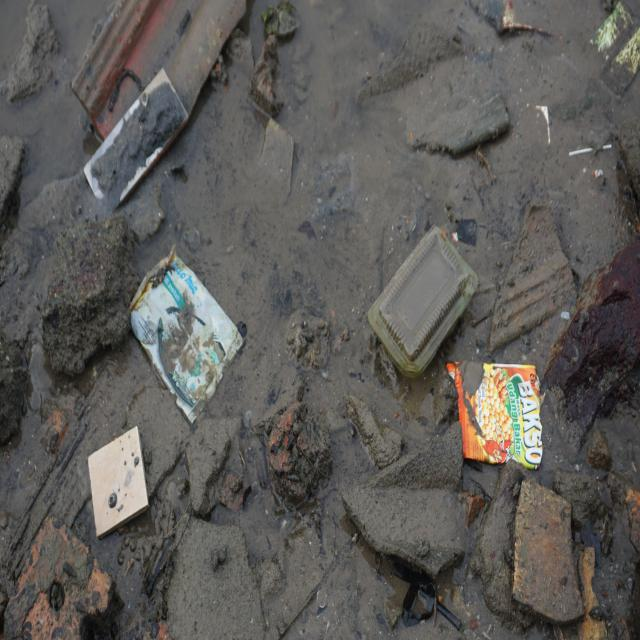Bungkus Makanan: (129, 244, 245, 427), (365, 222, 481, 383), (445, 351, 546, 473)
